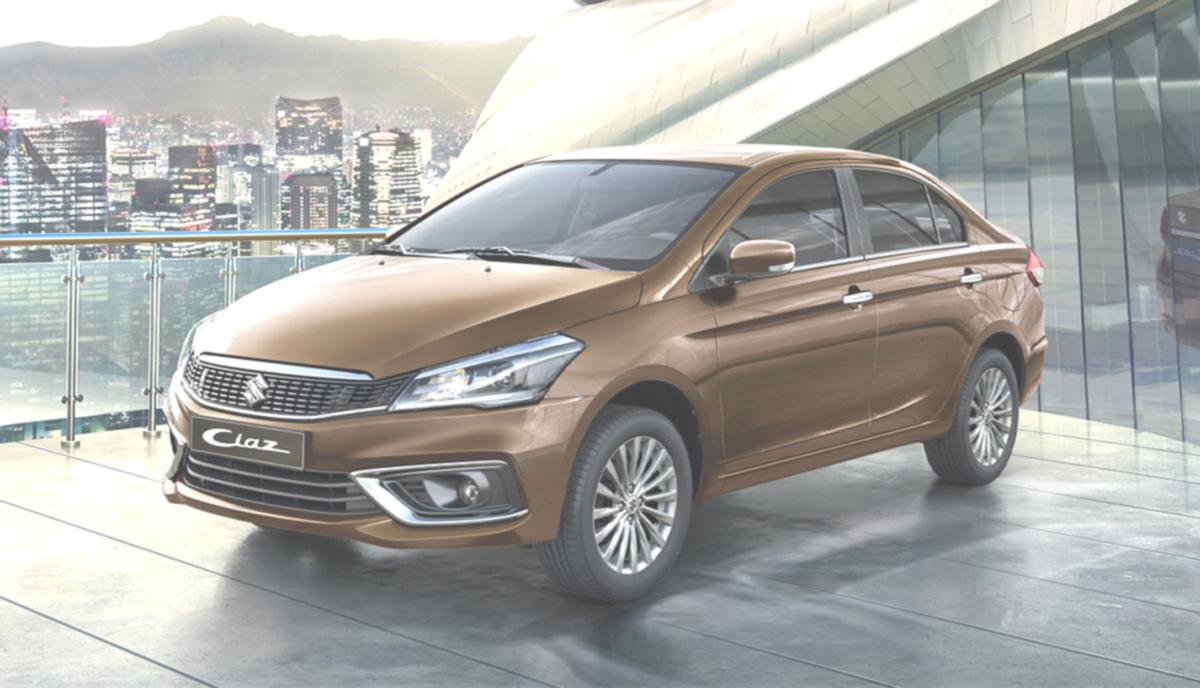suzuki: (236, 366, 277, 412)
